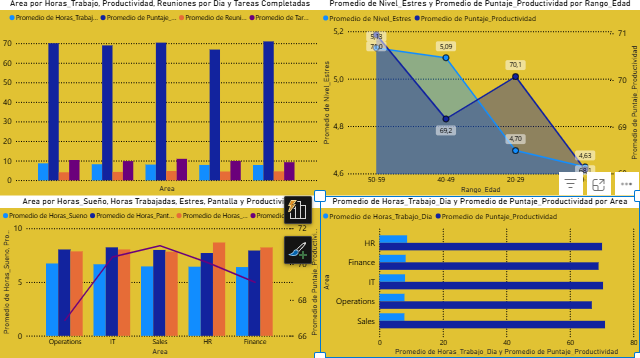

The page's visual inventory and layout, read from the dashboard file:
{"tool":"powerbi","page":{"name":"Página 1","canvas":[1280,720],"ordinal":0},"visuals":[{"type":"clusteredColumnChart","title":"Area por Horas_Trabajo, Productividad, Reuniones por Dia y Tareas Completadas","fields":{"Category":["Datos_Limpios.Area"],"Y":["Avg(Datos_Limpios.Horas_Trabajo_Dia)","Avg(Datos_Limpios.Puntaje_Productividad)","Avg(Datos_Limpios.Reuniones_Dia)","Avg(Datos_Limpios.Tareas_Completadas)"]},"box":[0,0,640,395],"z":0},{"type":"areaChart","fields":{"Category":["Datos_Limpios.Rango_Edad"],"Y":["Avg(Datos_Limpios.Nivel_Estres)"],"Y2":["Avg(Datos_Limpios.Puntaje_Productividad)"]},"box":[640,0,640,395],"z":1},{"type":"lineClusteredColumnComboChart","title":"Area por Horas_Sueño, Horas Trabajadas, Estres, Pantalla y Productividad","fields":{"Category":["Datos_Limpios.Area"],"Y":["Avg(Datos_Limpios.Horas_Sueno)","Avg(Datos_Limpios.Horas_Pantalla)","Avg(Datos_Limpios.Horas_Trabajo_Dia)"],"Y2":["Avg(Datos_Limpios.Puntaje_Productividad)"]},"box":[0,396,640,324],"z":2},{"type":"clusteredBarChart","fields":{"Category":["Datos_Limpios.Area"],"Y":["Avg(Datos_Limpios.Horas_Trabajo_Dia)","Avg(Datos_Limpios.Puntaje_Productividad)"]},"box":[640,396,640,324],"z":3}]}

Visuals, with their boxes in screenshot pixels (x1, y1, x2, y2), scaled from the page's 1280x720 canvas onto the 640x358 screenshot:
"Area por Horas_Trabajo, Productividad, Reuniones por Dia y Tareas Completadas" clusteredColumnChart: box=[0, 0, 320, 196]
areaChart - Datos_Limpios.Rango_Edad x Avg(Datos_Limpios.Nivel_Estres): box=[320, 0, 639, 196]
"Area por Horas_Sueño, Horas Trabajadas, Estres, Pantalla y Productividad" lineClusteredColumnComboChart: box=[0, 197, 320, 357]
clusteredBarChart - Datos_Limpios.Area x Avg(Datos_Limpios.Horas_Trabajo_Dia): box=[320, 197, 639, 357]
